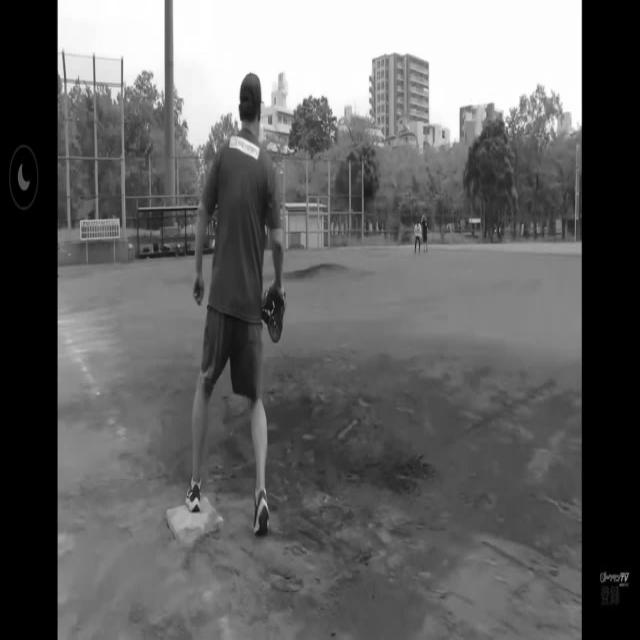base: (164, 491, 222, 549)
baseball_glove: (260, 275, 287, 338)
shoe: (251, 487, 266, 536), (186, 477, 202, 509)
